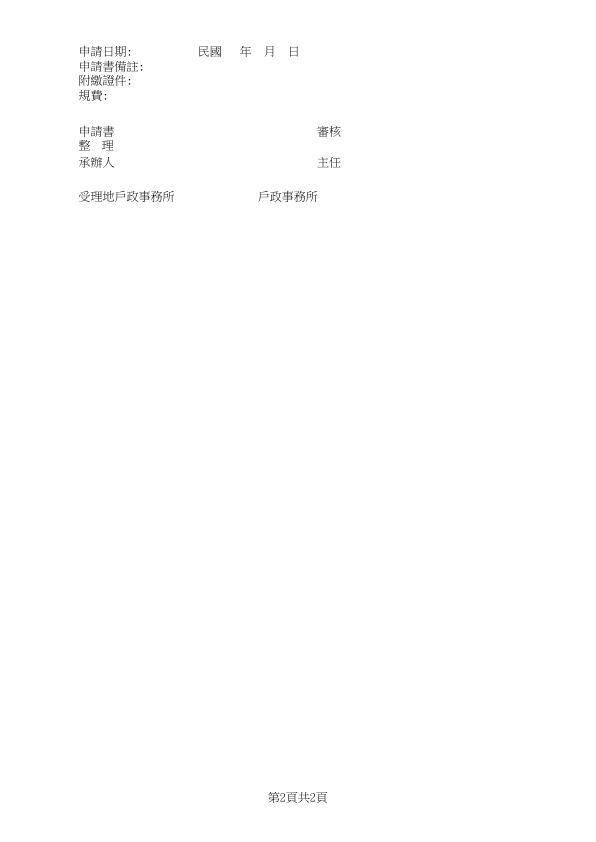text: (71, 40, 150, 108), (72, 120, 128, 171), (196, 39, 304, 62), (75, 188, 186, 207), (311, 120, 345, 174), (254, 186, 323, 207)
